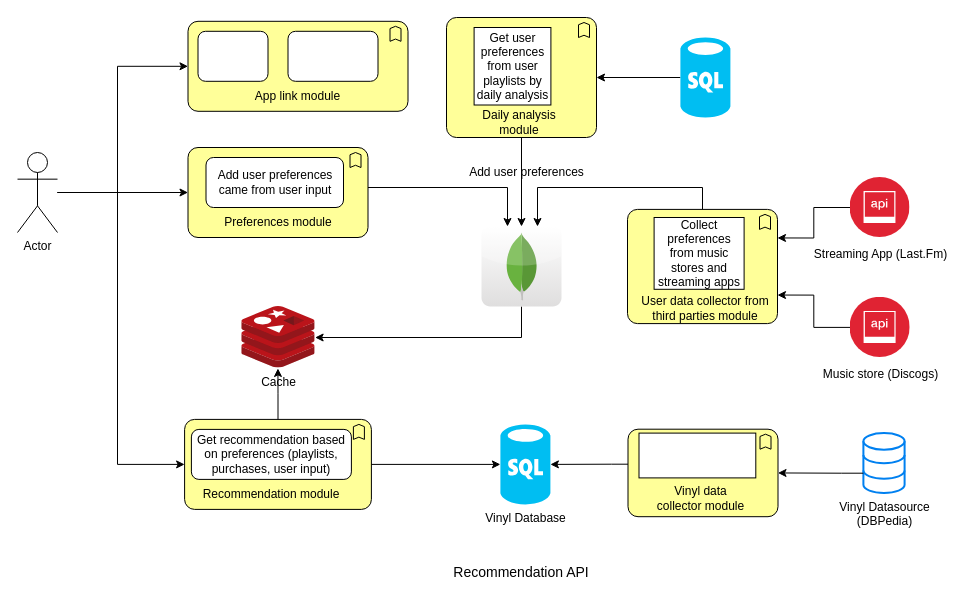
Some shapes in this 964 by 605 pixel diagram are drawn without their labels. The centre of each missing label's shape, as x and y in pixels:
"Collect Vinyls data for recommendations" belongs at pixel 697 455.
"Link Music Store to app (Discogs)" belongs at pixel 232 55.
"Link Streaming App to app (Last.fm)" belongs at pixel 332 55.
"Playlist Database" belongs at pixel 705 77.
"Preferences Database" belongs at pixel 521 266.
